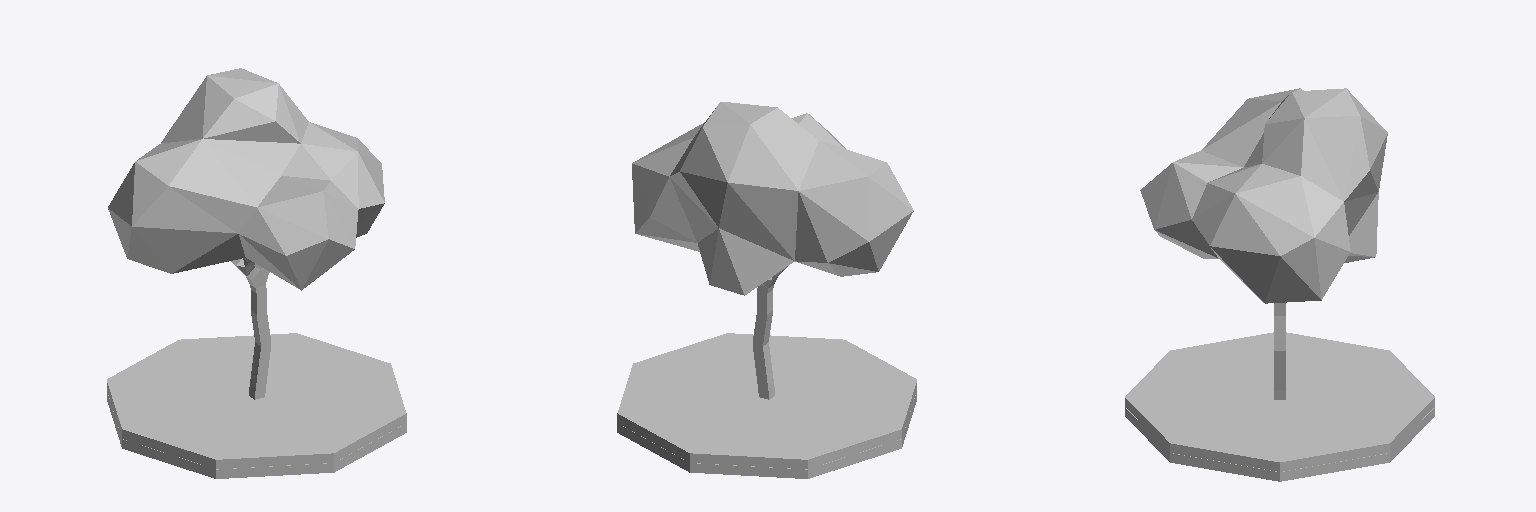
Rendered from Tree lowpoly.obj.
3 views of the same model, side by side, from view 1: azimuth 30°, elevation 25°; view 2: azimuth 150°, elevation 25°; view 3: azimuth 270°, elevation 25° (orthographic).
Parts seen in each view (by area): view 1: Mball.008_Mesh, Circle, Vert; view 2: Mball.008_Mesh, Circle, Vert; view 3: Mball.008_Mesh, Circle, Vert.
Part boxes in pixels (left/top/right/bottom): Mball.008_Mesh: left=108, top=68, right=384, bottom=290; Circle: left=107, top=333, right=406, bottom=478; Vert: left=231, top=258, right=270, bottom=399; Mball.008_Mesh: left=632, top=102, right=913, bottom=295; Circle: left=617, top=333, right=916, bottom=478; Vert: left=753, top=266, right=787, bottom=399; Mball.008_Mesh: left=1140, top=88, right=1387, bottom=303; Circle: left=1125, top=332, right=1434, bottom=481; Vert: left=1274, top=303, right=1285, bottom=399.
Size of the model in its own units: 8.12 by 9.2 by 8.09.